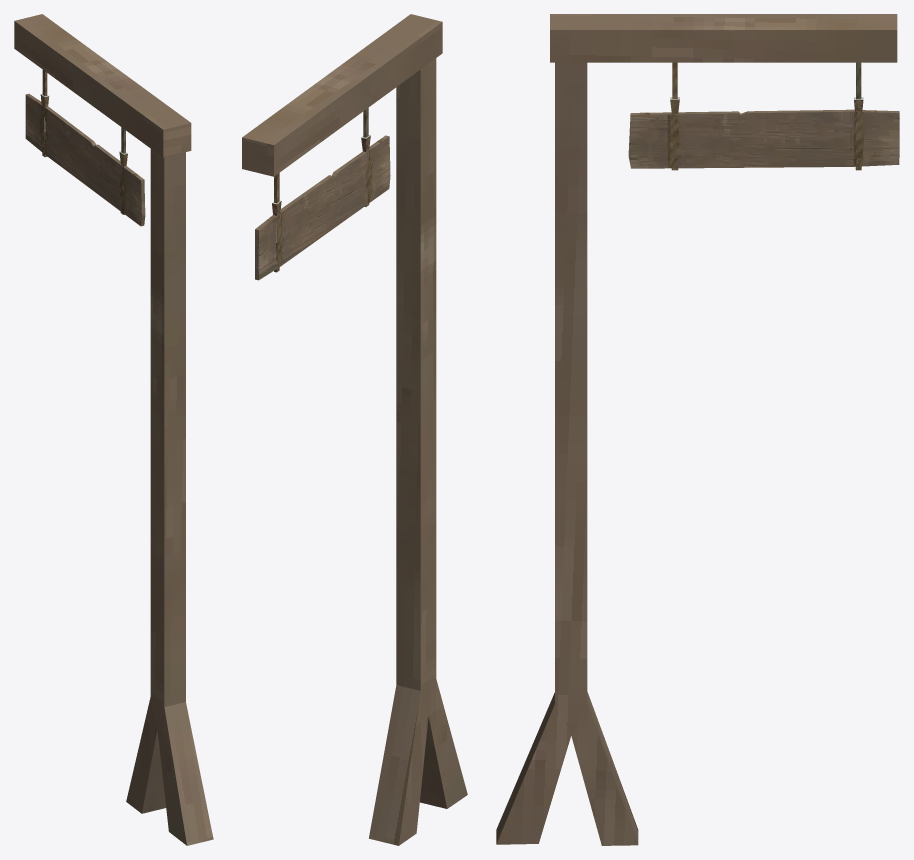
File: westernsign.glb
3 renders of one model, left to right at view 1: azimuth 30°, elevation 25°; view 2: azimuth 150°, elevation 25°; view 3: azimuth 270°, elevation 25°, orthographic. The views are drawn at different scales.
Visible parts, largest first — view 1: stub, sign; view 2: stub, sign; view 3: stub, sign.
Part boxes in pixels (x1,y1,x2,y2): stub: (14,14,213,845); sign: (25,70,145,226); stub: (242,14,467,845); sign: (255,108,390,280); stub: (496,14,897,845); sign: (628,62,899,170).
Bounding box in the file's own units: 0.1068 × 2.54 × 1.14.
Materials: 1 (1 with a texture image).
